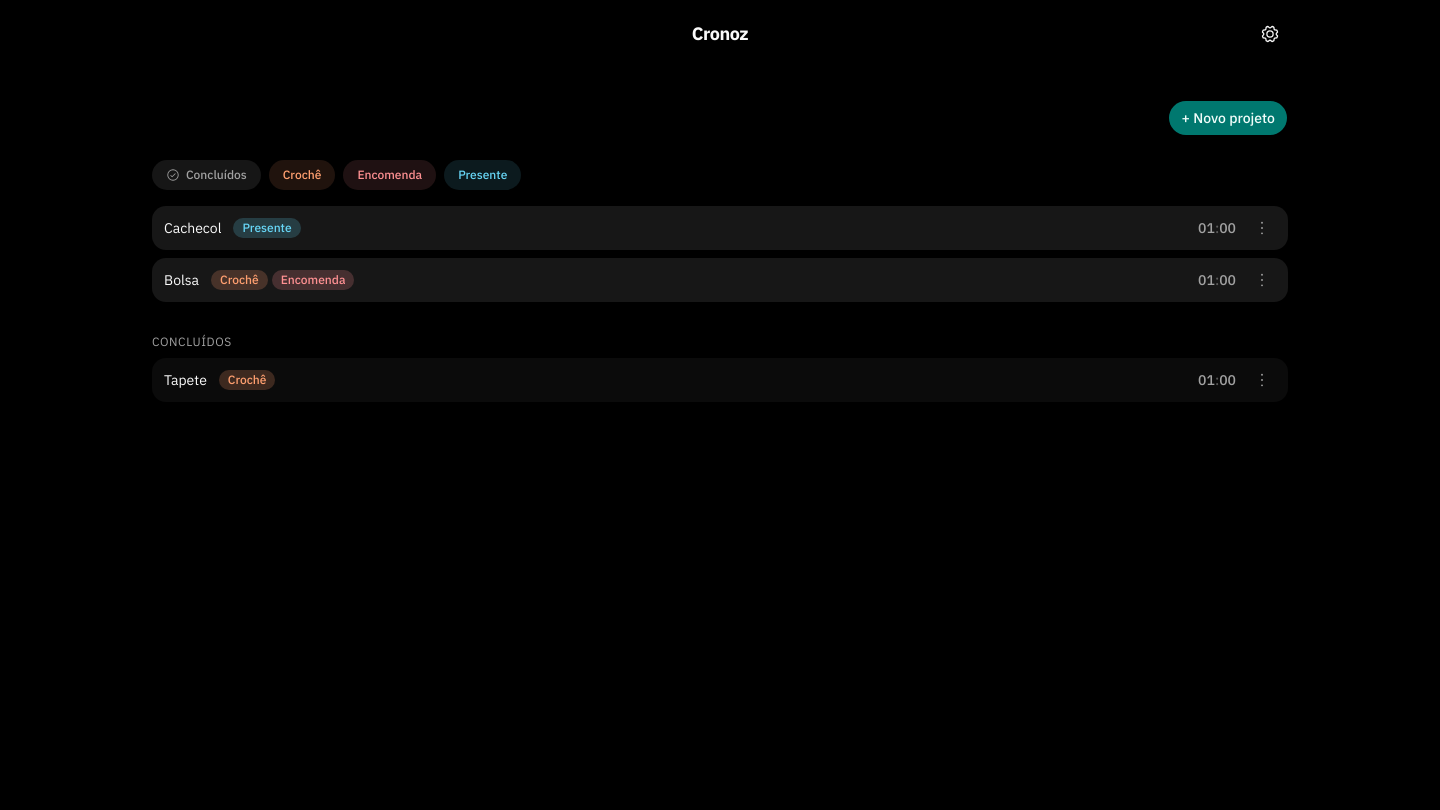
Scenario: Home tags › opens tag registration from the card and updates optimistically
Step 1. Click the button titled "Mais opções" in the row of "Cachecol" → (1262, 228), box [1244,210,1280,246]
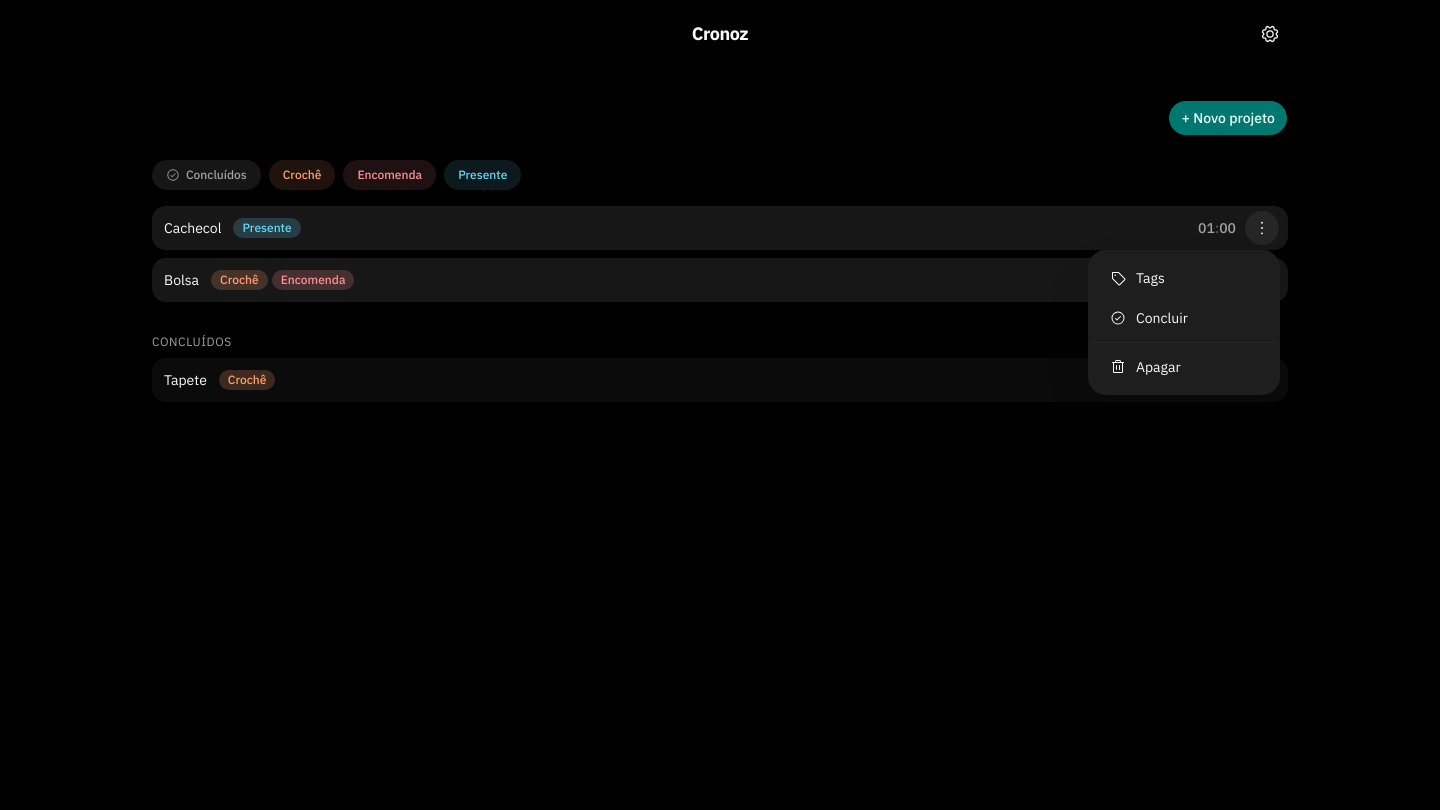
Step 2. Click the menu item "Tags" → (1137, 278), box [1110,269,1165,287]
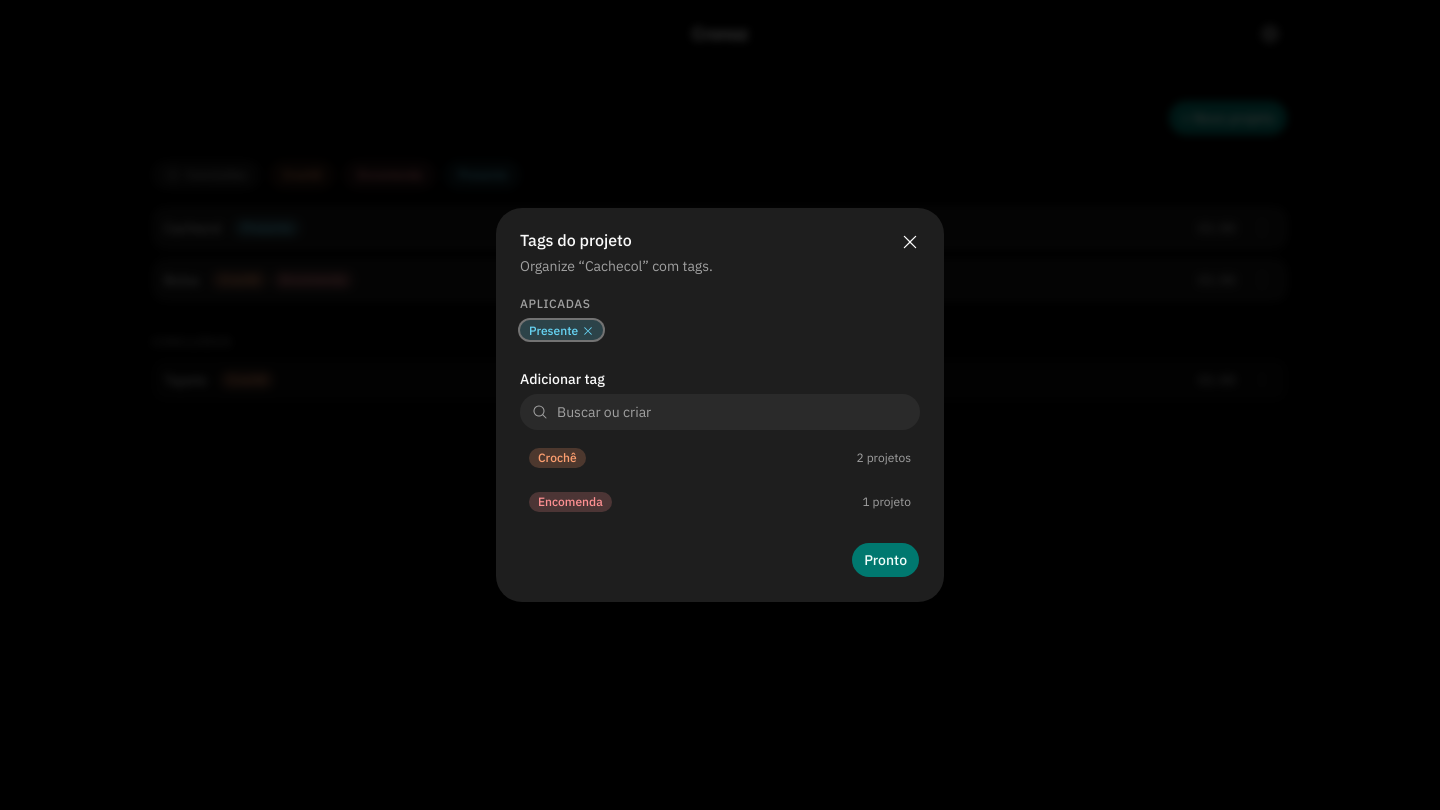
Step 3. Type "Urgente" into the field labelled "Adicionar tag" → (720, 412), box [520,394,920,430]
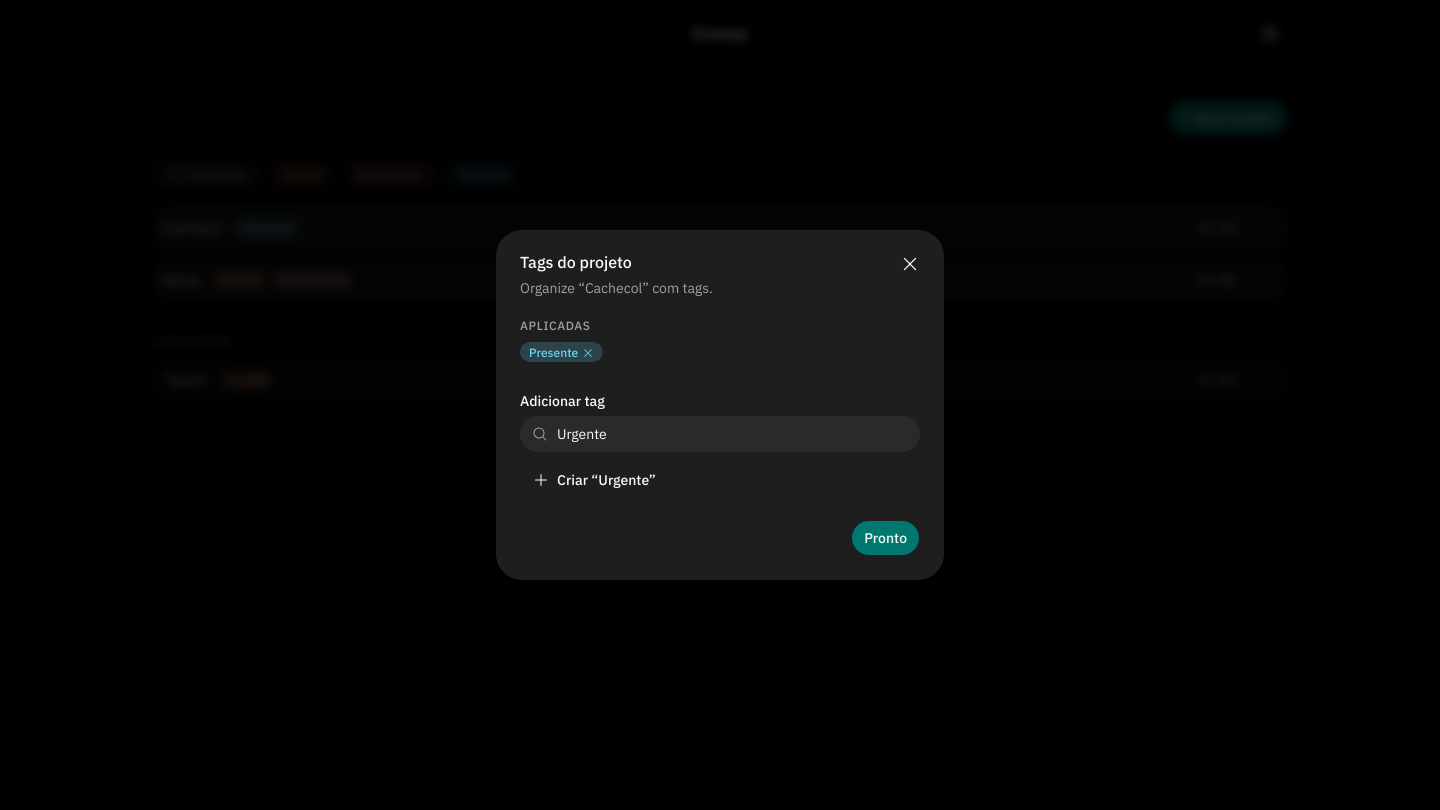
Step 4. Click the button "Criar “Urgente”" → (578, 480), box [520,460,920,500]
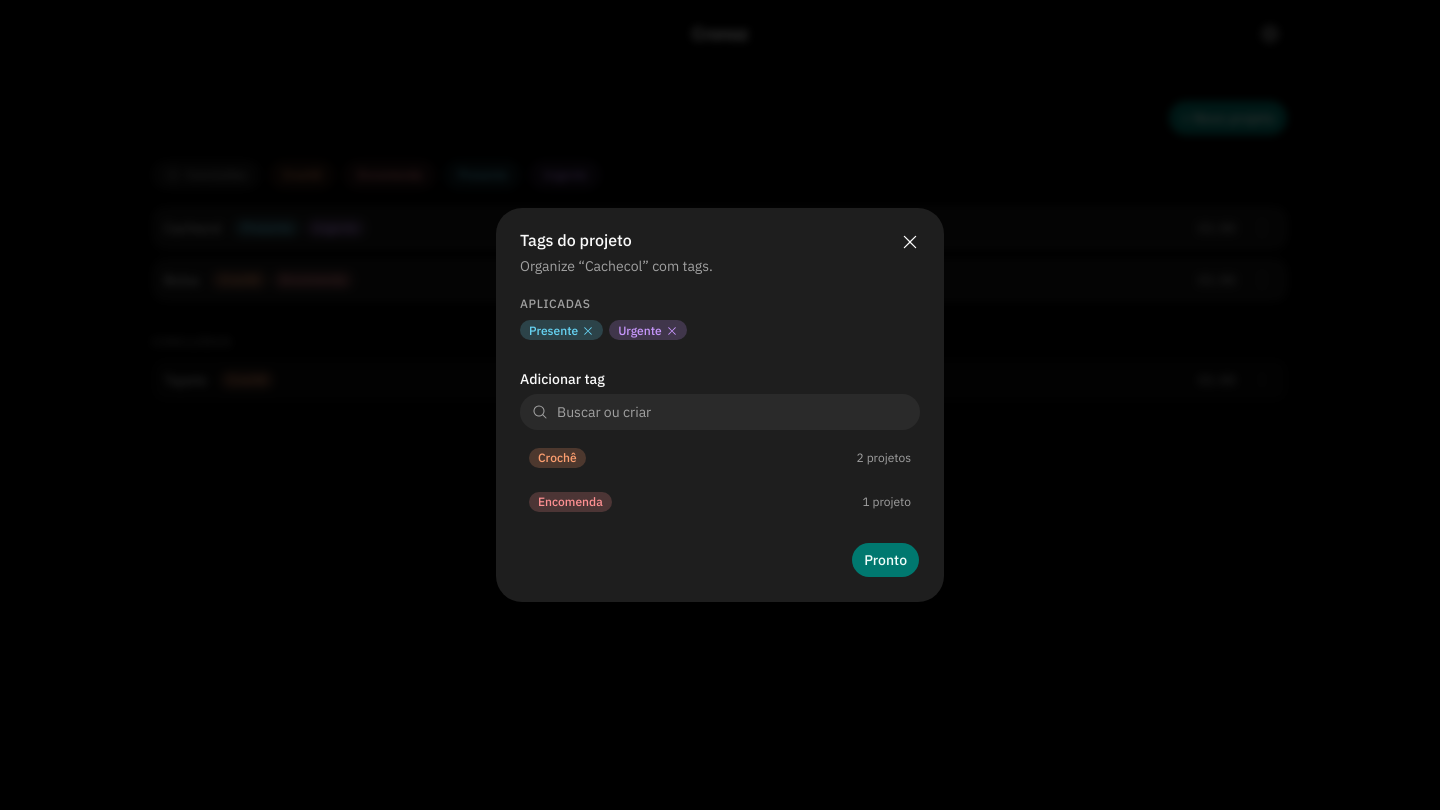
Expected: the button with aria-label "Remover tag Urgente" is shown, [609,320,687,340]
